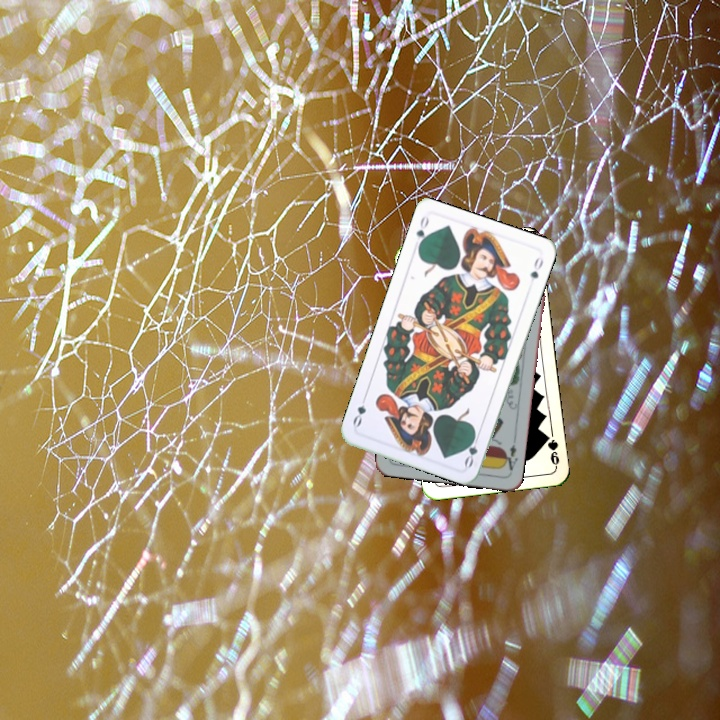EA: (499, 440, 520, 473)
G9: (540, 430, 562, 469)
GO: (460, 429, 482, 470), (412, 212, 432, 253)
